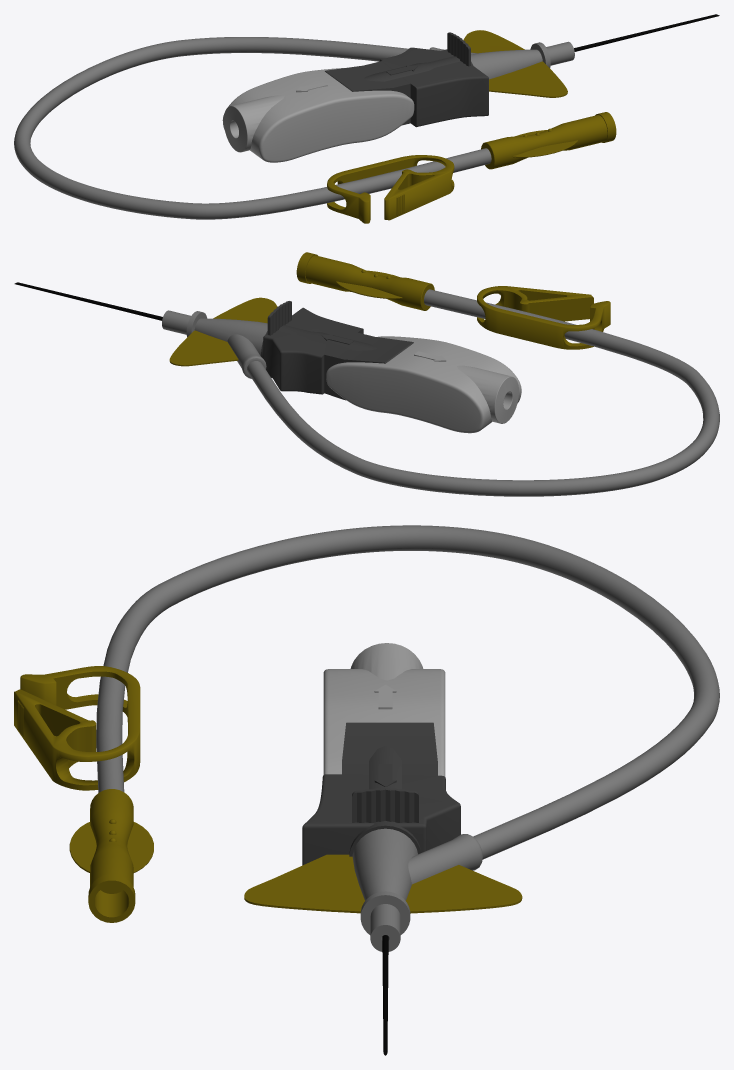
Rendered from catheter.fbx.
The picture shows the model from 3 angles, top to bottom: view 1: azimuth 30°, elevation 25°; view 2: azimuth 150°, elevation 25°; view 3: azimuth 270°, elevation 25°; orthographic projection. The views are drawn at different scales.
Visible parts, largest first — view 1: Line004, Line003, Line002, Line005, Cylinder003, Line001, Cylinder001, Object002, Object001, Box002; view 2: Line004, Line003, Line002, Line005, Cylinder003, Cylinder001, Line001, Object002, Object001, Box002; view 3: Line004, Line002, Line005, Line001, Line003, Cylinder001, Cylinder003, Box002, Object002.
Part boxes in pixels (left/top/right/bottom): Line004: left=14, top=37, right=491, bottom=219; Line003: left=222, top=68, right=414, bottom=162; Line002: left=325, top=47, right=488, bottom=127; Line005: left=327, top=155, right=454, bottom=223; Cylinder003: left=481, top=112, right=616, bottom=169; Line001: left=463, top=30, right=567, bottom=97; Cylinder001: left=429, top=41, right=574, bottom=79; Object002: left=223, top=95, right=284, bottom=152; Object001: left=574, top=14, right=719, bottom=51; Box002: left=447, top=32, right=470, bottom=66; Line004: left=247, top=289, right=719, bottom=496; Line003: left=326, top=336, right=521, bottom=433; Line002: left=261, top=307, right=413, bottom=400; Line005: left=477, top=286, right=610, bottom=349; Cylinder003: left=296, top=252, right=434, bottom=310; Cylinder001: left=162, top=310, right=267, bottom=378; Line001: left=169, top=297, right=277, bottom=366; Object002: left=457, top=365, right=518, bottom=423; Object001: left=14, top=282, right=162, bottom=320; Box002: left=267, top=301, right=291, bottom=335; Line004: left=96, top=525, right=719, bottom=859; Line002: left=302, top=722, right=460, bottom=865; Line005: left=14, top=666, right=140, bottom=790; Line001: left=244, top=854, right=522, bottom=913; Line003: left=323, top=669, right=445, bottom=776; Cylinder001: left=352, top=828, right=482, bottom=951; Cylinder003: left=69, top=789, right=153, bottom=922; Box002: left=352, top=788, right=418, bottom=822; Object002: left=350, top=643, right=423, bottom=680.
Size of the model in its own units: 176 by 15.76 by 101.
